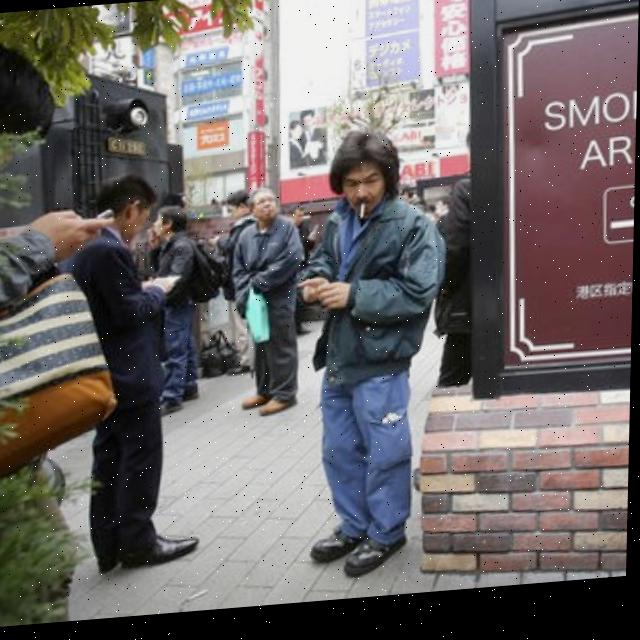cigarette: (360, 208, 365, 225)
